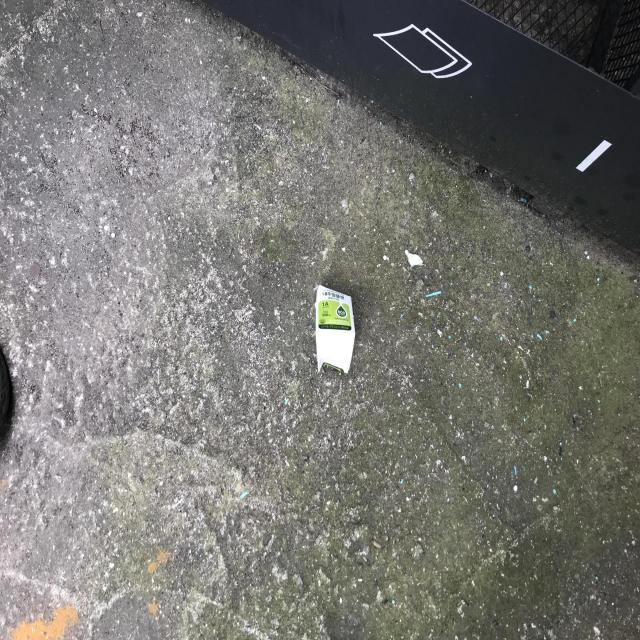paperpack: (315, 285, 356, 373)
